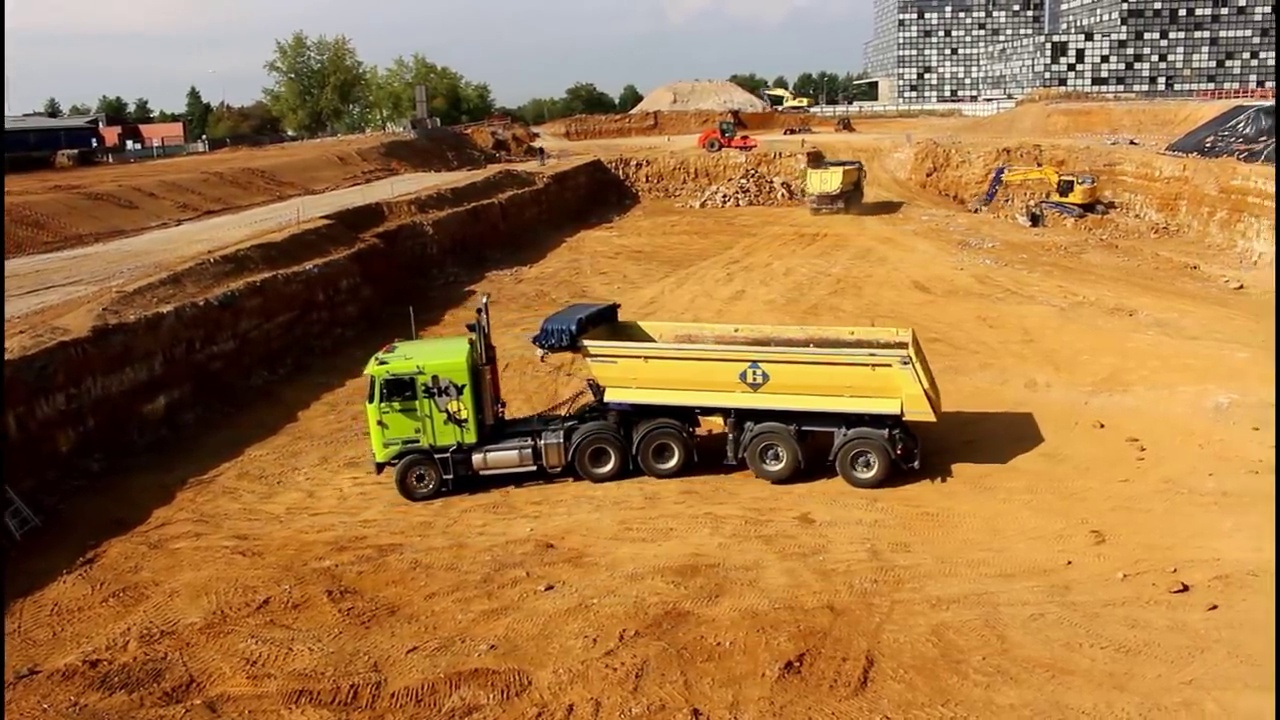compactor: (694, 107, 763, 152)
excavator: (961, 159, 1115, 228), (760, 78, 819, 117)
truck: (354, 288, 947, 506), (799, 151, 871, 217)
